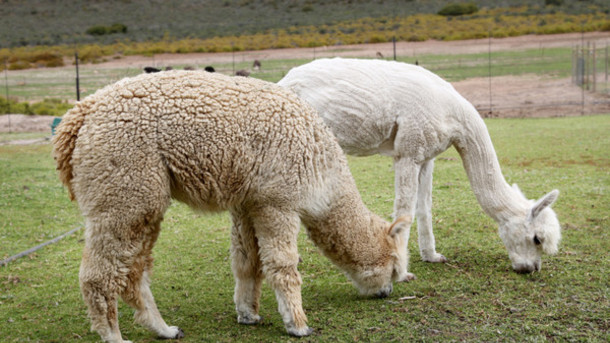alpaca: (51, 69, 408, 342), (269, 57, 563, 284)
